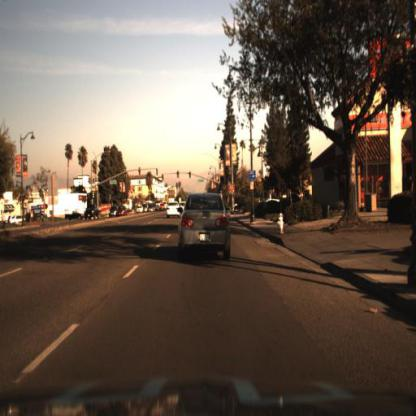car: (178, 192, 232, 262), (164, 194, 182, 219), (62, 207, 86, 224), (85, 201, 99, 222), (7, 213, 29, 225), (106, 204, 119, 219), (107, 204, 118, 219), (117, 205, 128, 220)
trafficLight-Green: (172, 167, 180, 181), (187, 166, 192, 180)
